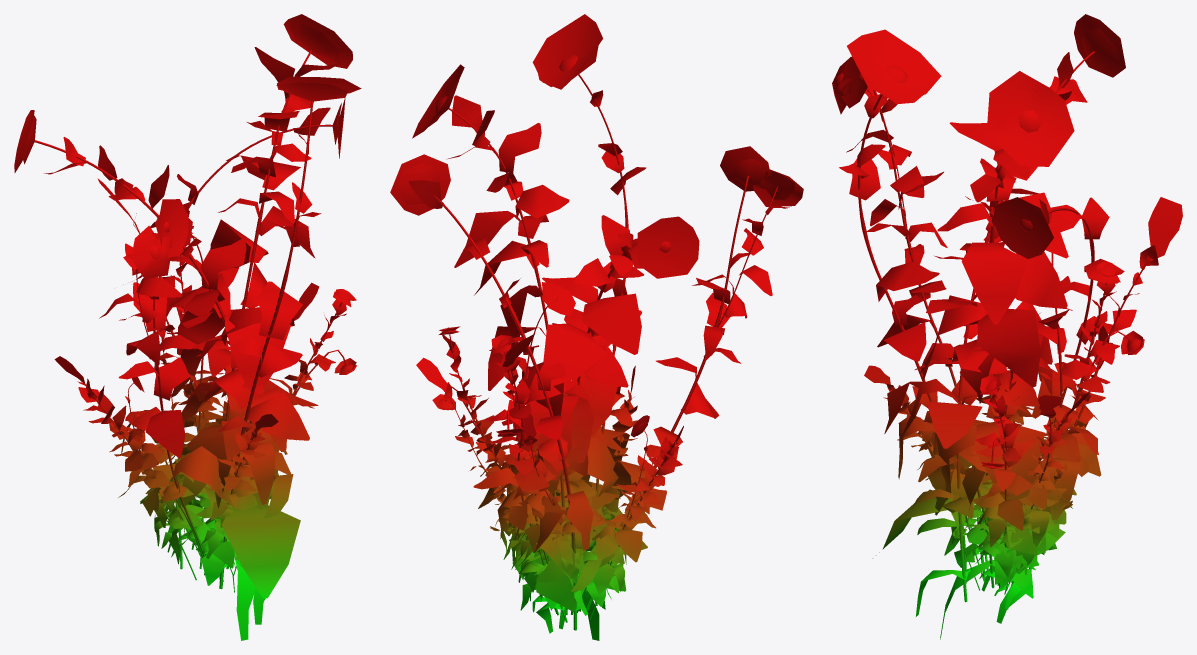
The model's file is Crownbeard_LOD1_Var2_tefoajkr.fbx.
3 renders of one model, left to right at view 1: azimuth 30°, elevation 25°; view 2: azimuth 150°, elevation 25°; view 3: azimuth 270°, elevation 25°, orthographic. The views are drawn at different scales.
Visible parts, largest first — view 1: _e60c_Var2_LOD1; view 2: _e60c_Var2_LOD1; view 3: _e60c_Var2_LOD1.
Part boxes in pixels (x1=…): _e60c_Var2_LOD1: x1=14, y1=14, x2=361, y2=640; _e60c_Var2_LOD1: x1=390, y1=14, x2=803, y2=640; _e60c_Var2_LOD1: x1=832, y1=14, x2=1182, y2=639.
Bounding box in the file's own units: 47.72 × 83.14 × 42.45.
